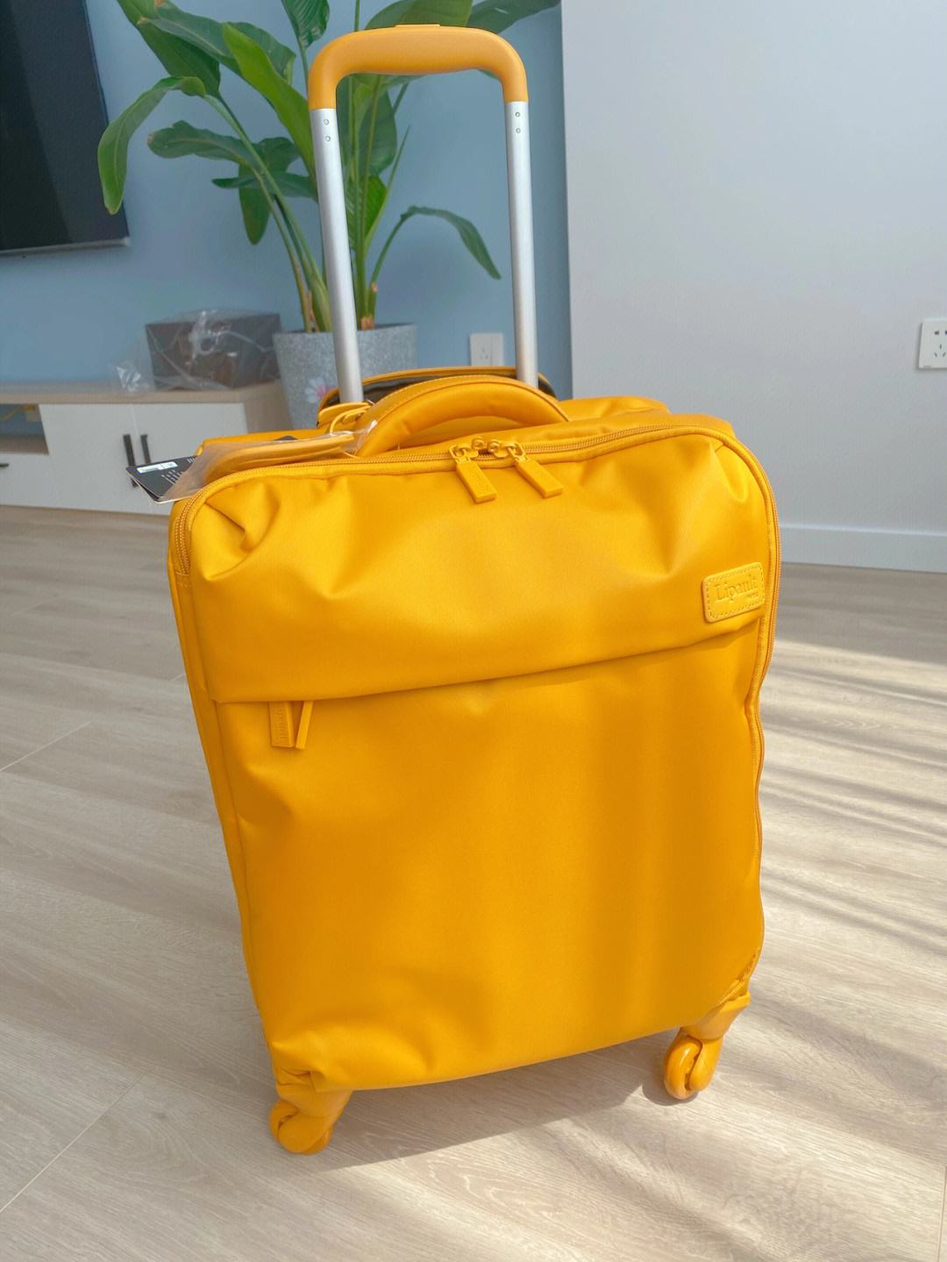box: (170, 394, 783, 1094)
handle: (335, 376, 570, 459)
wheel: (661, 1029, 725, 1103), (267, 1098, 334, 1157)
